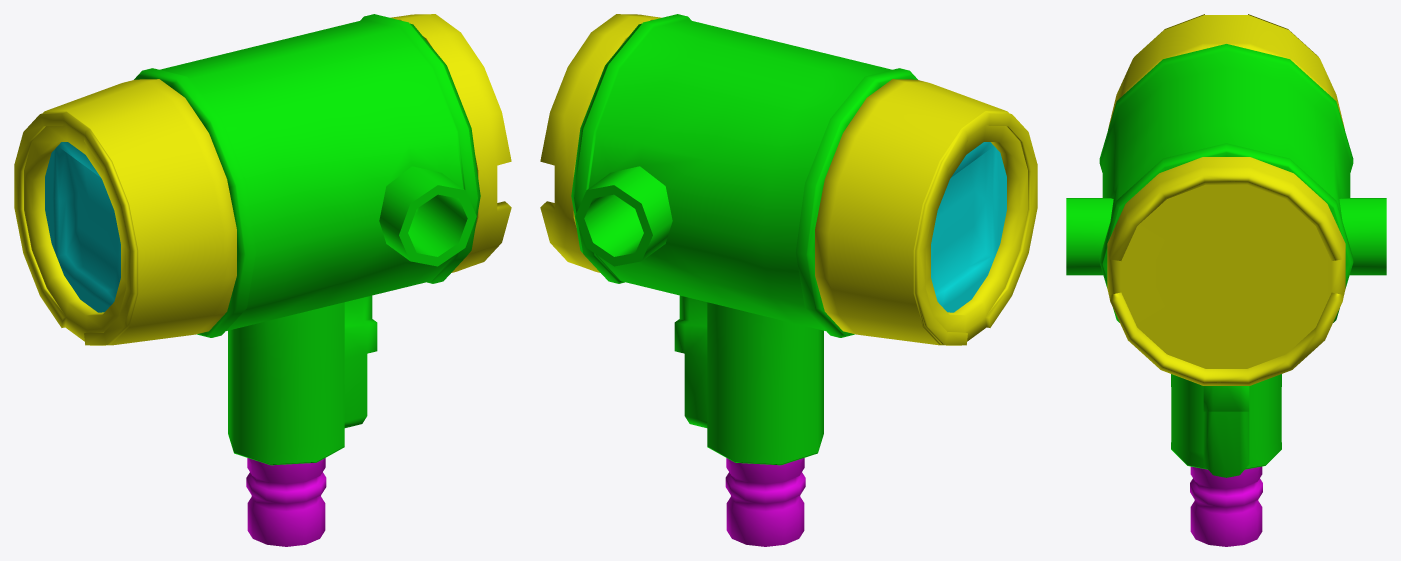
File: Honeywell_ST3000.fbx
3 renders of one model, left to right at view 1: azimuth 30°, elevation 25°; view 2: azimuth 150°, elevation 25°; view 3: azimuth 270°, elevation 25°, orthographic. The views are drawn at different scales.
Visible parts, largest first — view 1: Cuerpo_low; view 2: Cuerpo_low; view 3: Cuerpo_low.
Boxes of the visible parts, x1=… form: Cuerpo_low: x1=14, y1=14, x2=511, y2=546; Cuerpo_low: x1=540, y1=14, x2=1037, y2=546; Cuerpo_low: x1=1066, y1=14, x2=1386, y2=546.
Size of the model in its own units: 53.89 by 65.68 by 43.44.
